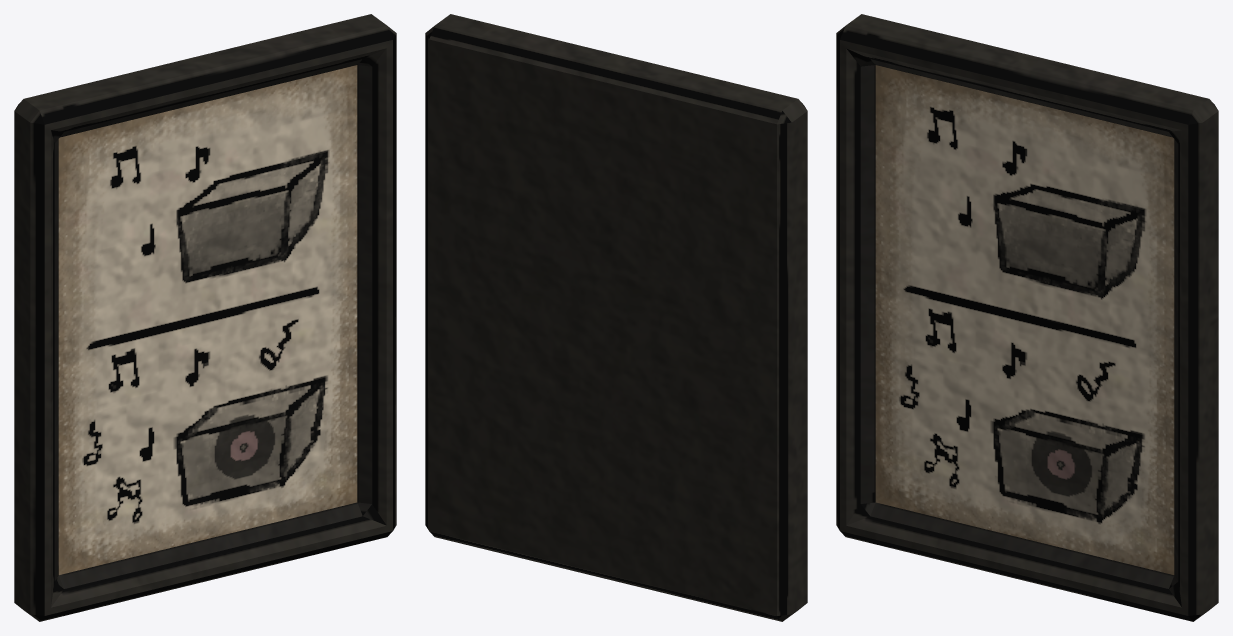
The picture shows the model from 3 angles, left to right: view 1: azimuth 30°, elevation 25°; view 2: azimuth 150°, elevation 25°; view 3: azimuth 330°, elevation 25°; orthographic projection.
Parts seen in each view (by area): view 1: 相框; view 2: 相框; view 3: 相框.
Part boxes in pixels (bbox=[...]): 相框: bbox=[14, 14, 396, 621]; 相框: bbox=[425, 14, 807, 621]; 相框: bbox=[836, 14, 1218, 621].
Size of the model in its own units: 16.5 by 22 by 2.09.
Materials: 1 (1 with a texture image).
